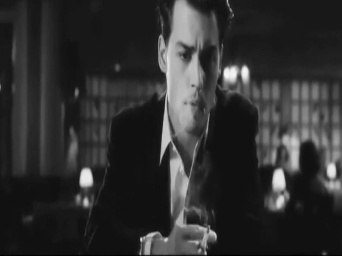smoke: (203, 222, 210, 252)
